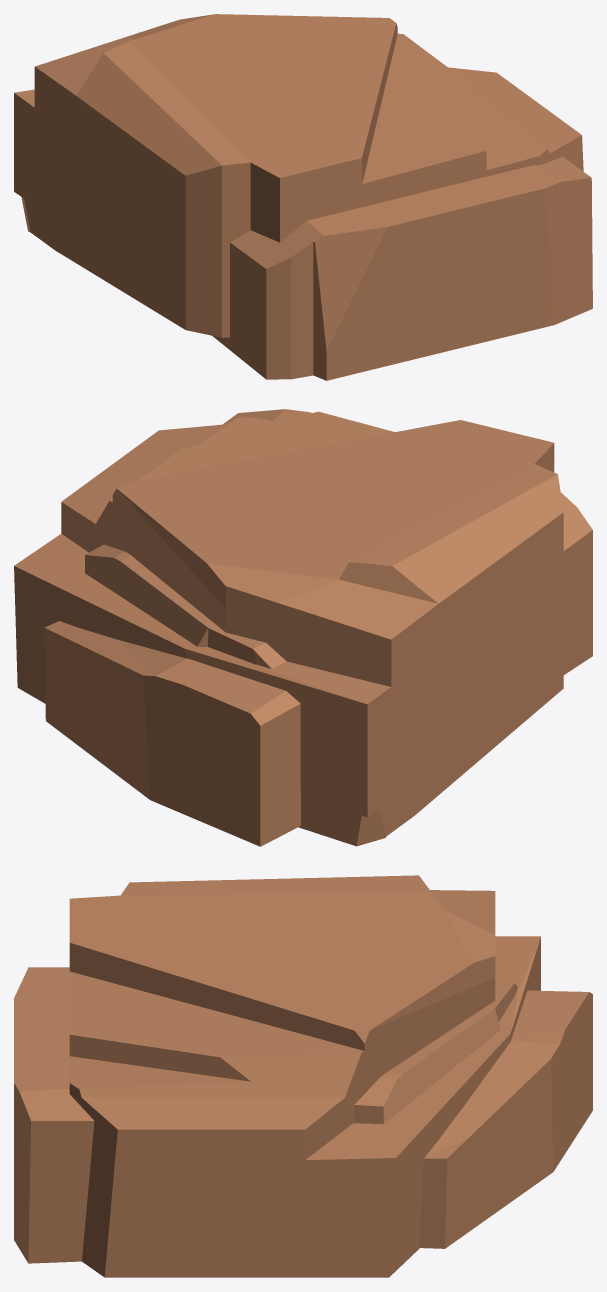
Rendered from DesertRockBig_01.fbx.
3 views of the same model, one above another, from view 1: azimuth 30°, elevation 25°; view 2: azimuth 150°, elevation 25°; view 3: azimuth 270°, elevation 25° (orthographic). The views are drawn at different scales.
Visible parts, largest first — view 1: Cube.001; view 2: Cube.001; view 3: Cube.001.
Boxes of the visible parts, left/top/right/bottom form: Cube.001: left=14, top=14, right=592, bottom=380; Cube.001: left=14, top=409, right=592, bottom=846; Cube.001: left=14, top=875, right=592, bottom=1277.
Bounding box in the file's own units: 909 × 467 × 1103.
